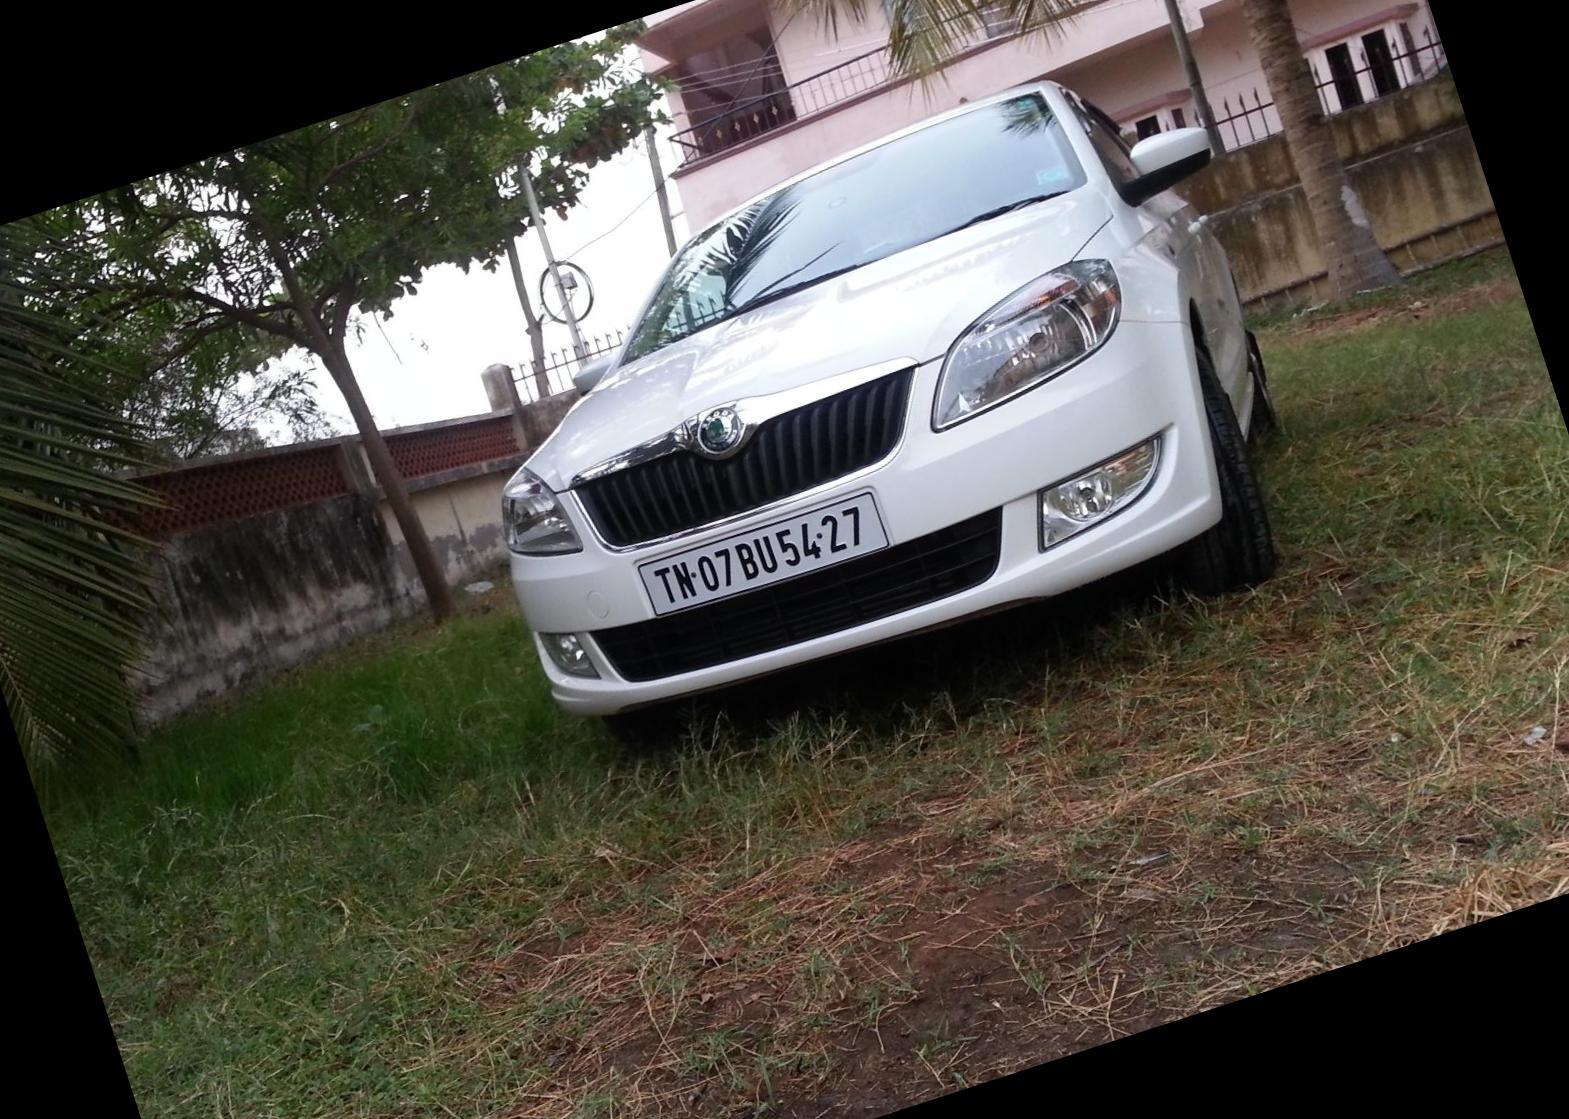plate: (634, 476, 892, 620)
